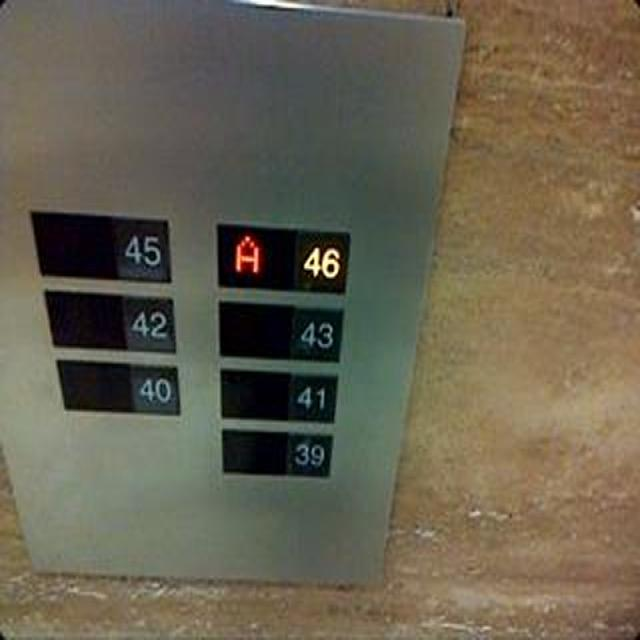39: (282, 426, 334, 482)
40: (126, 360, 182, 420)
41: (284, 366, 339, 426)
42: (117, 287, 178, 356)
43: (287, 302, 346, 366)
45: (109, 213, 172, 286)
46: (294, 225, 351, 295)
led: (213, 220, 303, 292)
